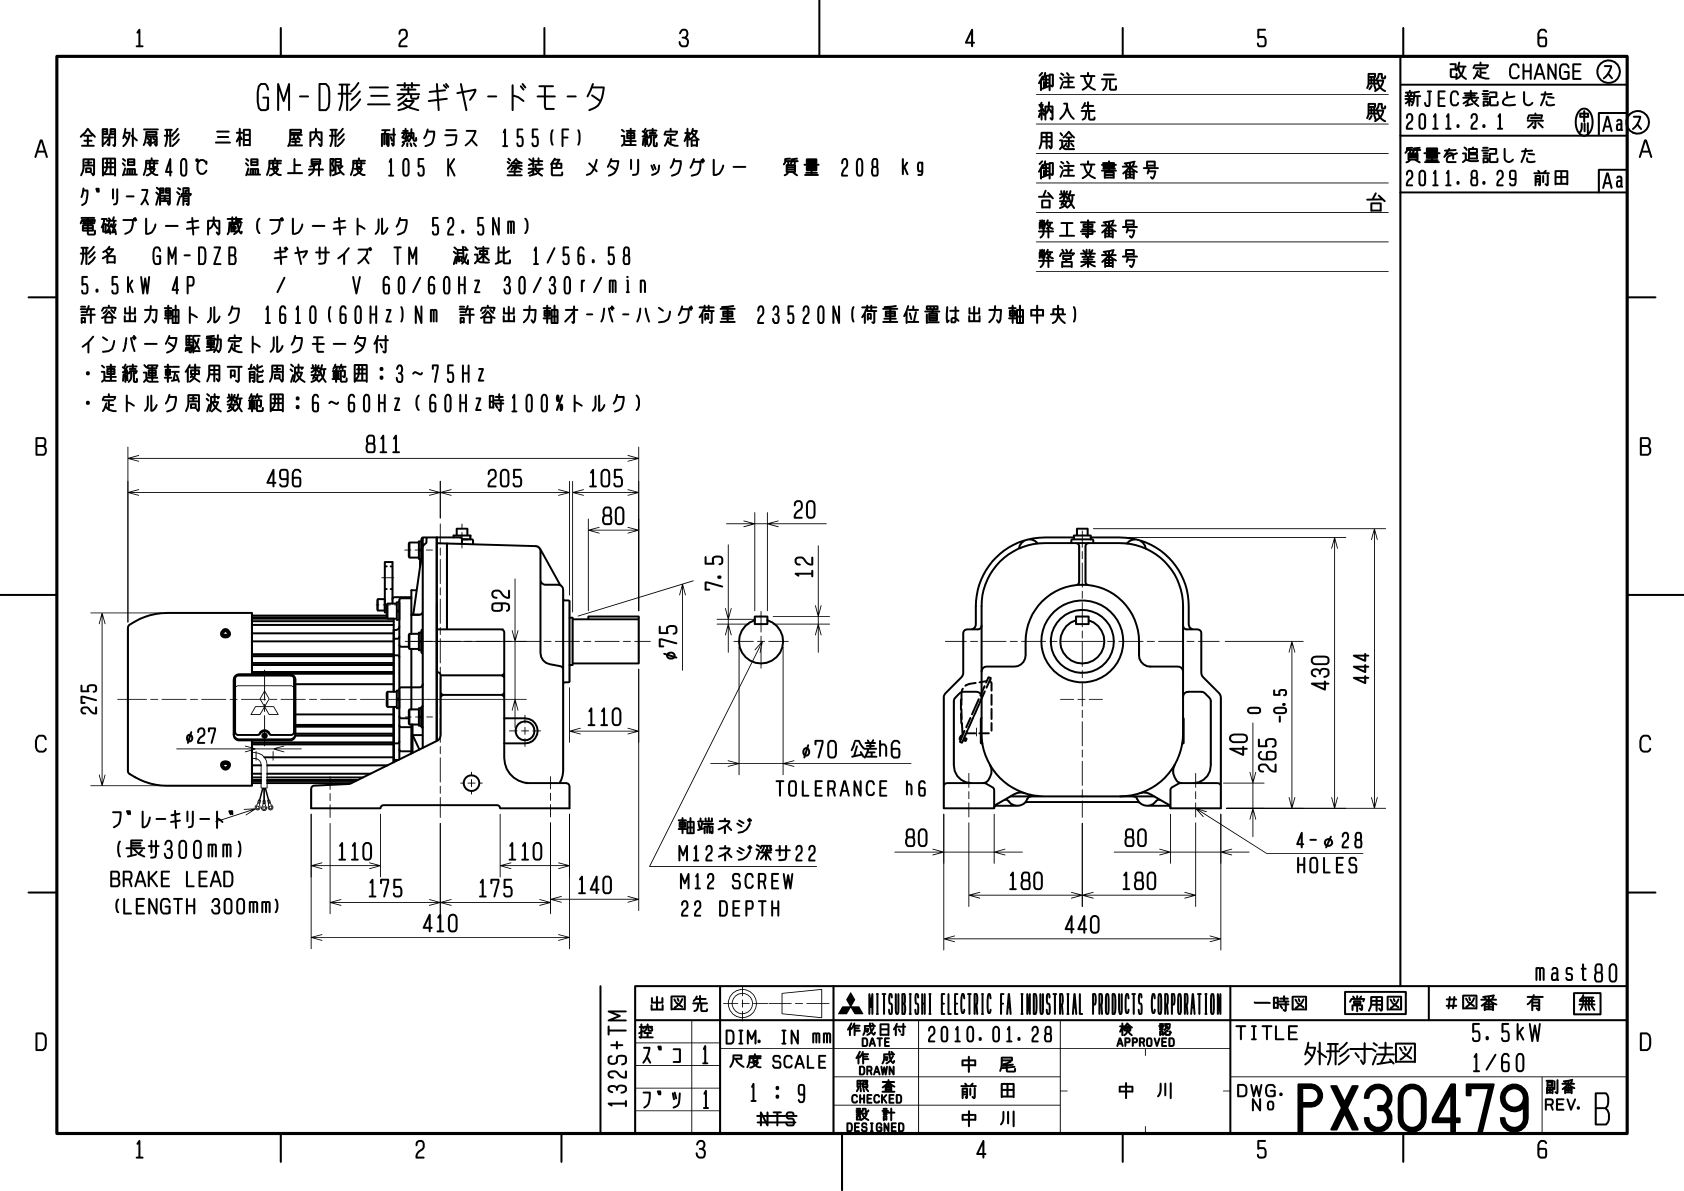GM_D_インバータ屋内_三相_脚: (71, 427, 1389, 967)
